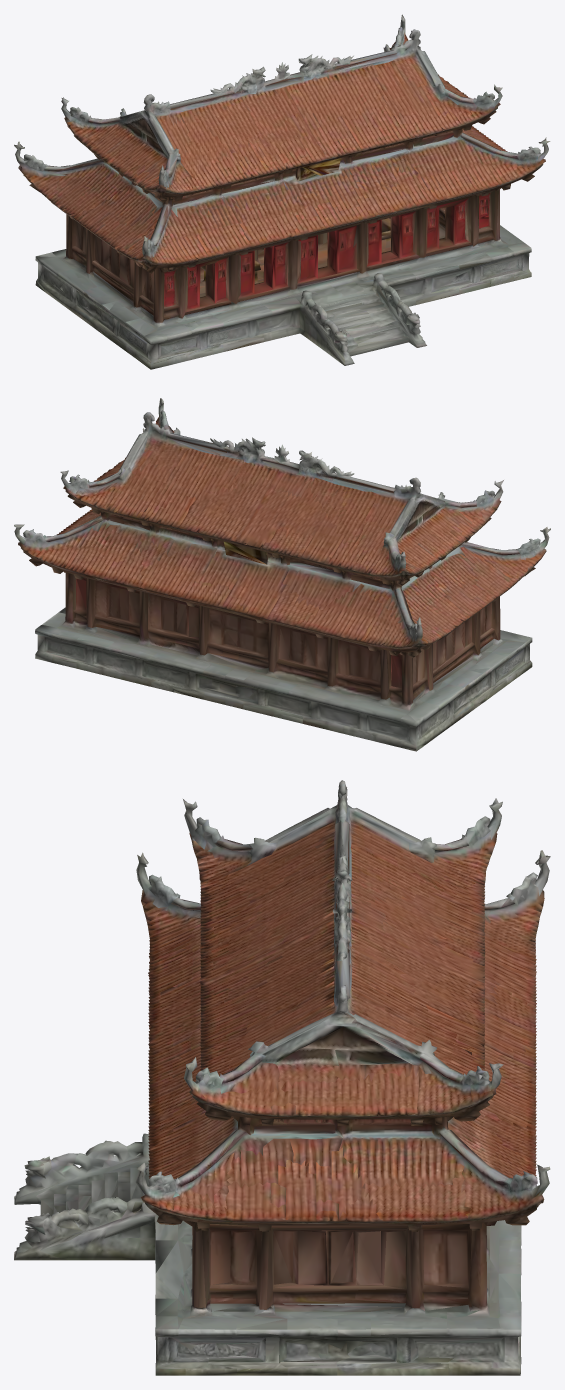
The model's file is library-shell.glb.
3 views of the same model, one above another, from view 1: azimuth 30°, elevation 25°; view 2: azimuth 150°, elevation 25°; view 3: azimuth 270°, elevation 25° (orthographic). The views are drawn at different scales.
Parts seen in each view (by area): view 1: tangkinh; view 2: tangkinh; view 3: tangkinh.
Part boxes in pixels (box(x1,y1,x2,y2)): tangkinh: box(14, 14, 550, 369); tangkinh: box(14, 398, 550, 751); tangkinh: box(14, 780, 550, 1375).
Size of the model in its own units: 0.9793 by 0.5028 by 0.7062.
1 material, 1 textured.
